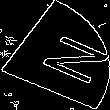N_NW: (12, 25, 98, 85)
